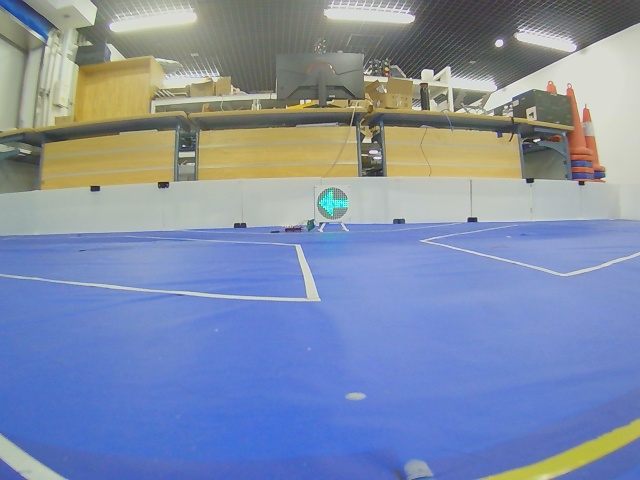left_green: (317, 187, 349, 220)
